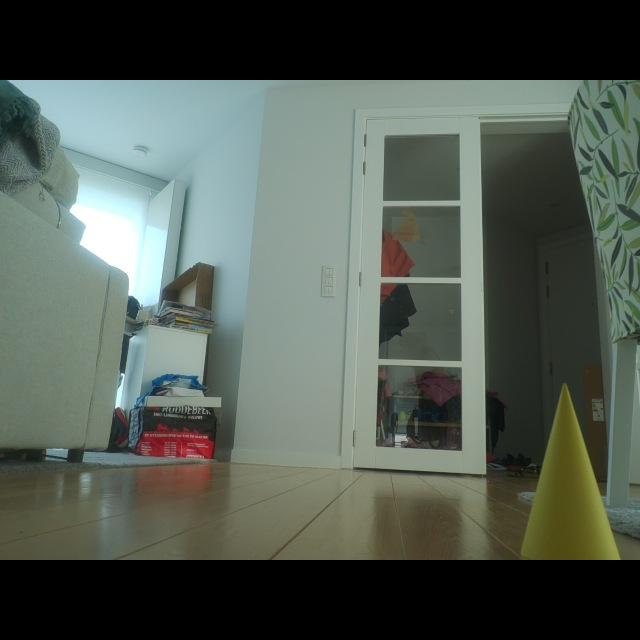bolya: (520, 384, 619, 559)
